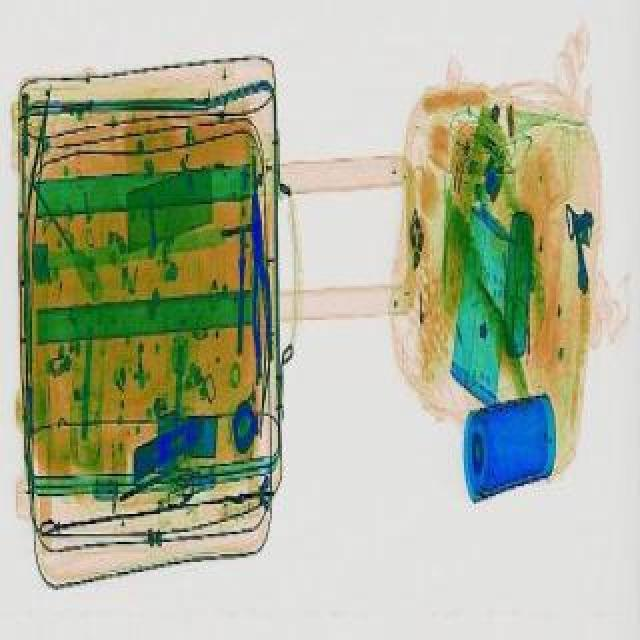wrench: (246, 198, 278, 382)
